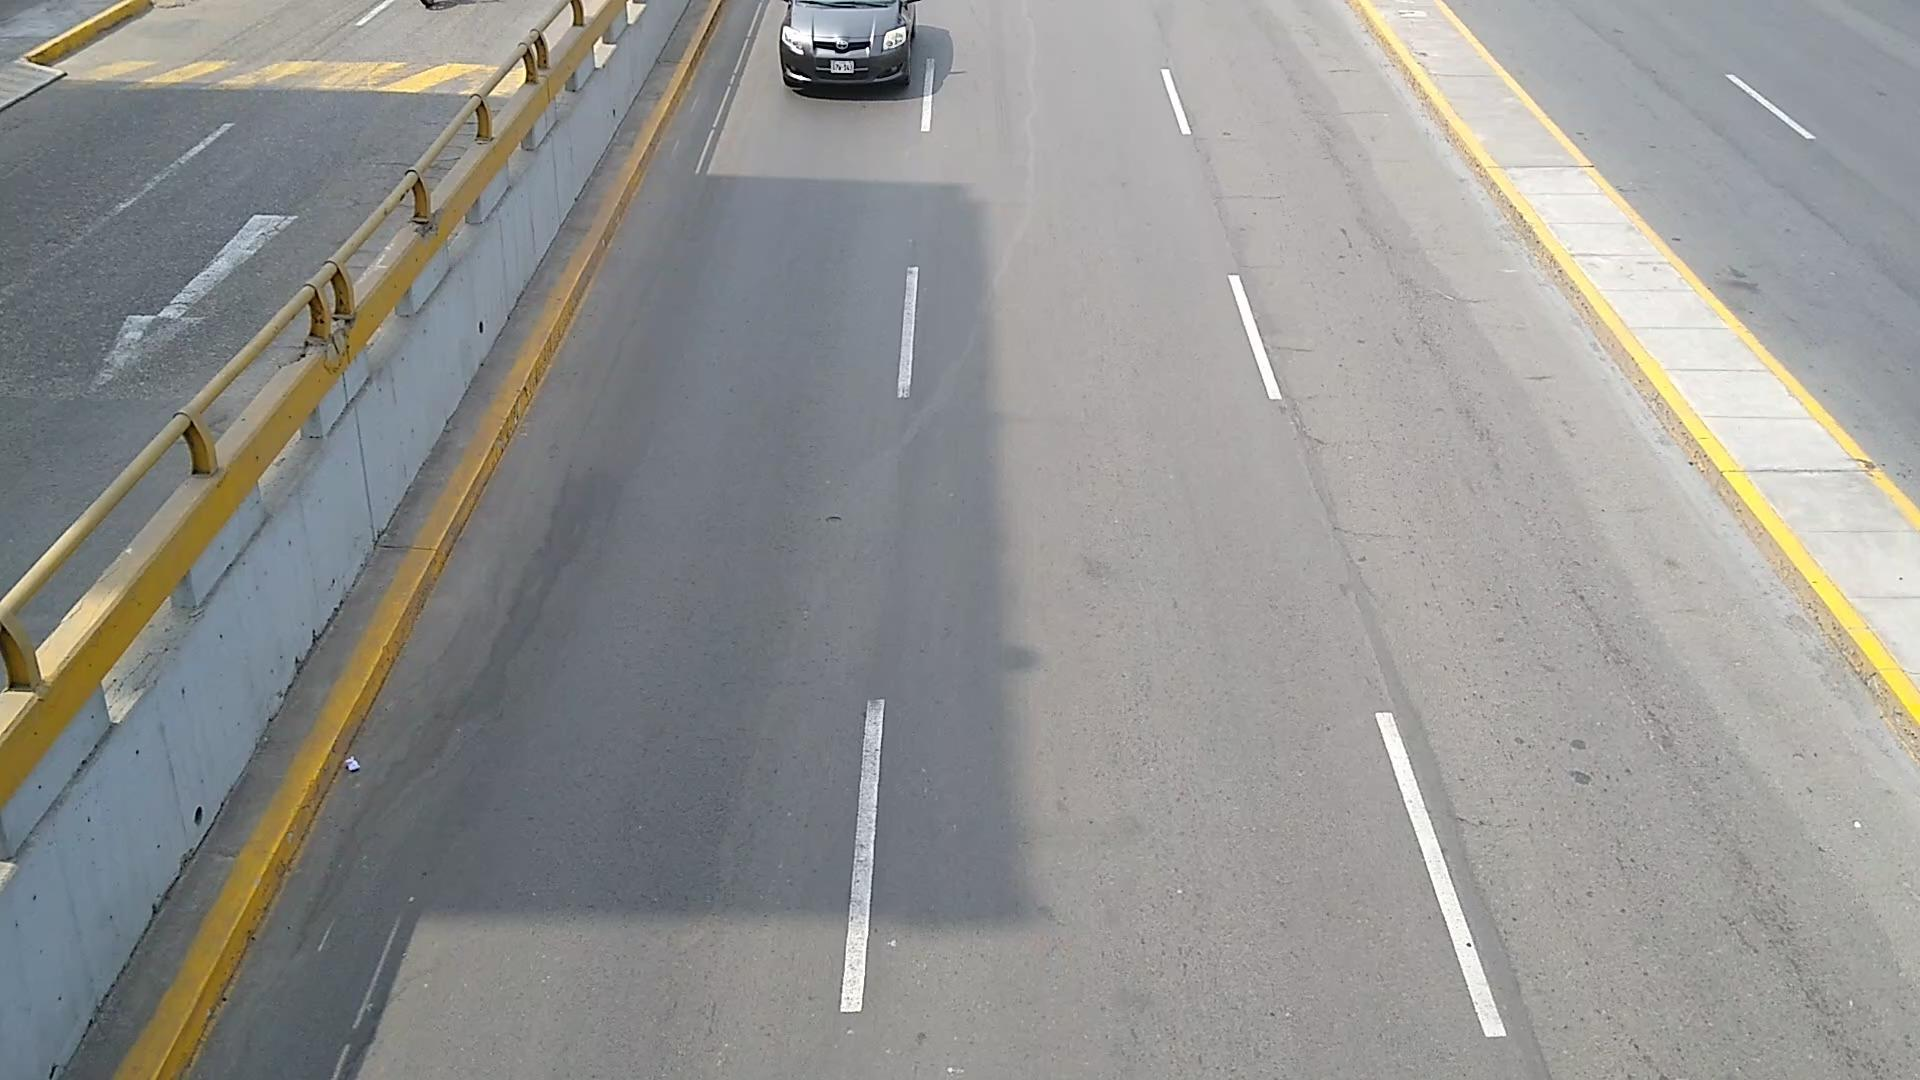car: (352, 0, 394, 24)
